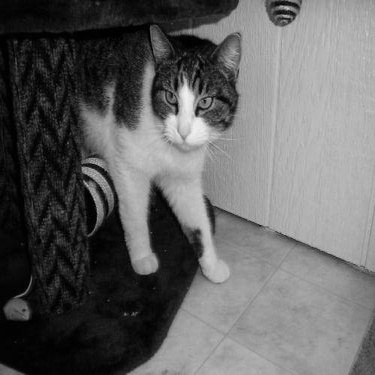cat: (1, 21, 260, 283)
